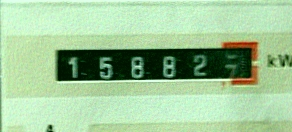1: (67, 55, 81, 80)
2: (193, 52, 209, 78)
5: (98, 55, 114, 80)
7: (224, 62, 238, 78)
8: (129, 55, 146, 79), (161, 53, 177, 78)
screen: (43, 35, 269, 95)
